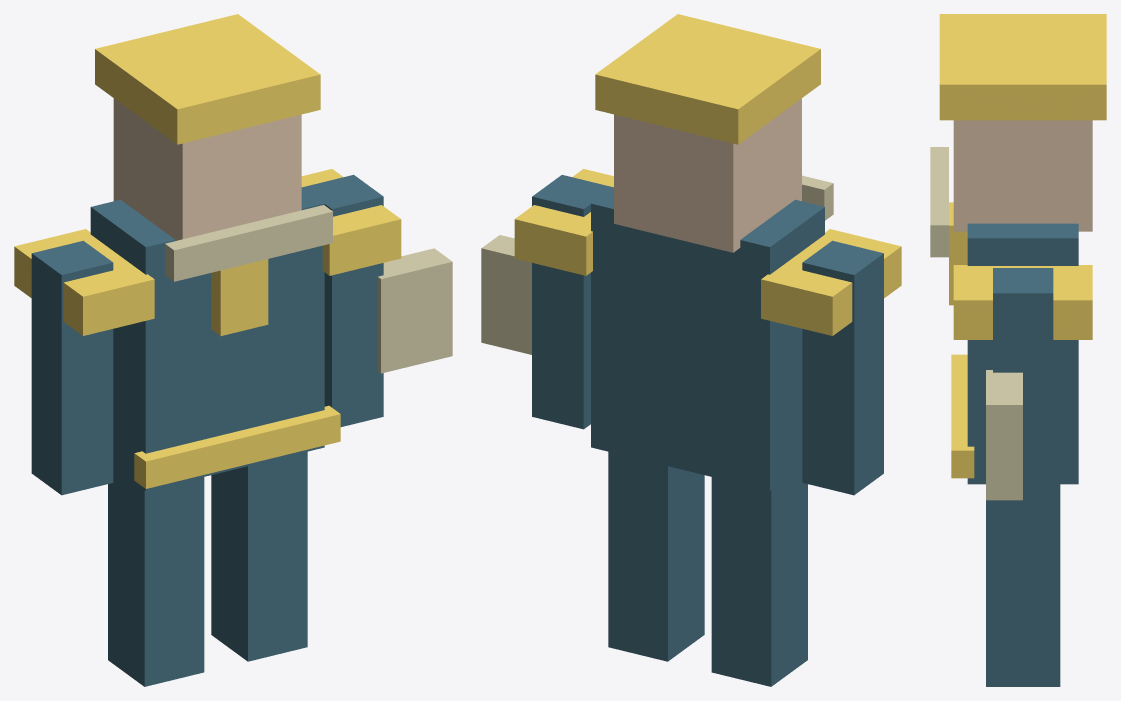
Rendered from 05_dax_mossguard_herald_near_waystone.glb.
The picture shows the model from 3 angles, left to right: view 1: azimuth 30°, elevation 25°; view 2: azimuth 150°, elevation 25°; view 3: azimuth 270°, elevation 25°; orthographic projection.
Parts seen in each view (by area): view 1: Dax Mossguard, Herald near Waystone; view 2: Dax Mossguard, Herald near Waystone; view 3: Dax Mossguard, Herald near Waystone.
Boxes of the visible parts, x1,y1,x2,y2 form: Dax Mossguard, Herald near Waystone: (14,14,452,686); Dax Mossguard, Herald near Waystone: (481,14,901,686); Dax Mossguard, Herald near Waystone: (930,14,1106,686).
Size of the model in its own units: 1.04 by 1.51 by 0.4042.
